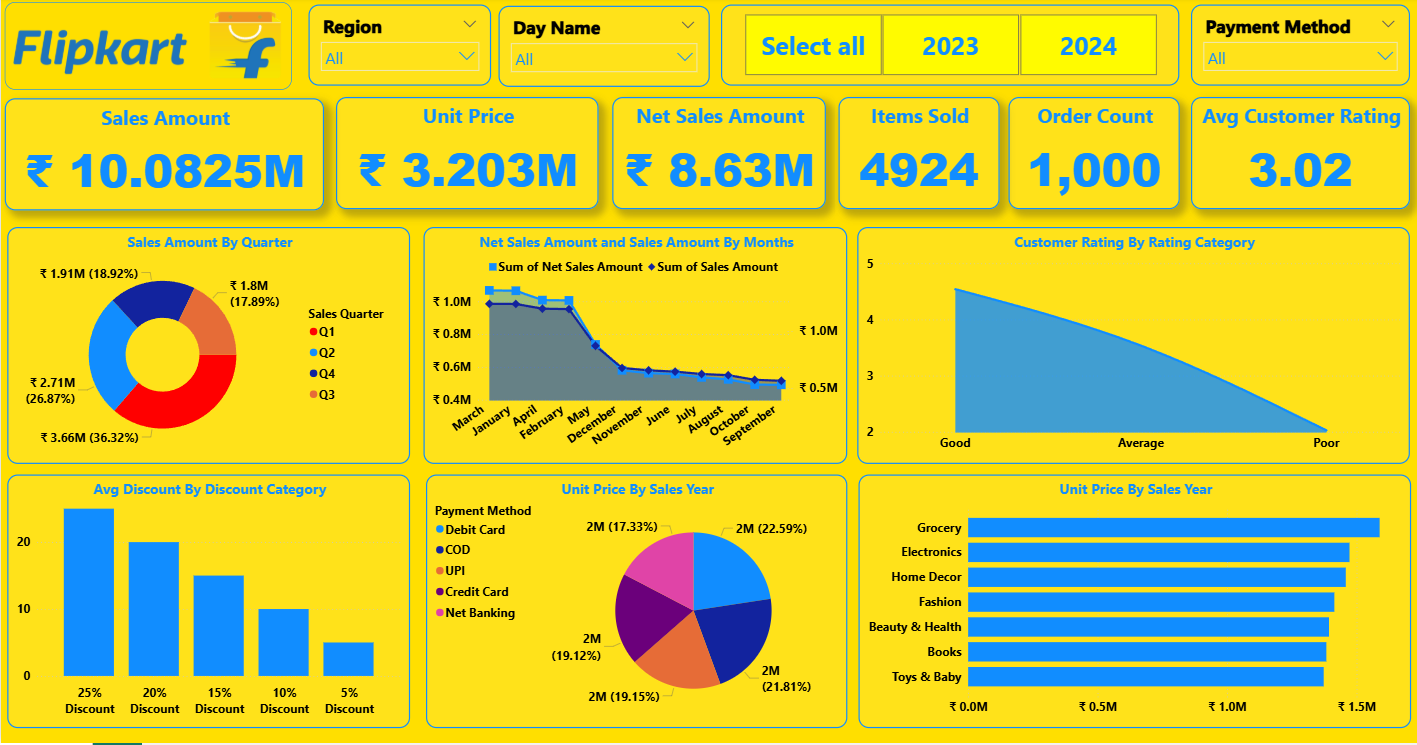

What the dashboard file says about the page in this screenshot:
{"tool":"powerbi","page":{"name":"Page 1","canvas":[1900,1000],"ordinal":0},"visuals":[{"type":"image","box":[5.2,6.9,384.9,117.4],"z":0},{"type":"card","title":"Unit Price","fields":{"Values":["Sum(Sheet1.Unit Price)"]},"box":[448.8,134.6,352.1,150.2],"z":1000},{"type":"card","title":"Sales Amount","fields":{"Values":["Sum(Sheet1.Sales Amount)"]},"box":[4.5,136.4,428.1,150.2],"z":2000},{"type":"card","title":"Net Sales Amount","fields":{"Values":["Sum(Sheet1.Net Sales Amount)"]},"box":[819.9,134.6,286.5,150.2],"z":3000},{"type":"card","title":"Items Sold","fields":{"Values":["Sum(Sheet1.Quantity Sold)"]},"box":[1121.9,134.6,215.8,150.2],"z":4000},{"type":"card","title":"Order Count","fields":{"Values":["Count(Sheet1.Order ID)"]},"box":[1349.7,134.6,229.6,150.2],"z":5000},{"type":"card","title":"Avg Customer Rating","fields":{"Values":["Avg(Sheet1.Customer Rating)"]},"box":[1594.8,134.6,293.4,150.2],"z":6000},{"type":"donutChart","title":"Sales Amount By Quarter","fields":{"Y":["Sum(Sheet1.Sales Amount)"],"Category":["Sheet1.Sales Quarter"]},"box":[8.6,309,540.2,317.6],"z":7000},{"type":"columnChart","title":"Avg Discount By Discount Category","fields":{"Category":["Sheet1.Discount Category"],"Y":["Avg(Sheet1.Discount (%))"]},"box":[8.6,640.4,540.2,340],"z":8000},{"type":"areaChart","title":"Net Sales Amount and Sales Amount By Months","fields":{"Category":["Sheet1.Sales Month"],"Y":["Sum(Sheet1.Net Sales Amount)"],"Y2":["Sum(Sheet1.Sales Amount)"]},"box":[566.1,309,567.9,317.6],"z":9000},{"type":"barChart","title":"Unit Price By Sales Year","fields":{"Category":["Sheet1.Product Category"],"Y":["Sum(Sheet1.Sales Amount)"]},"box":[1149.5,640.4,740.5,340],"z":10000},{"type":"pieChart","title":"Unit Price By Sales Year","fields":{"Y":["Sum(Sheet1.Sales Amount)"],"Category":["Sheet1.Payment Method"]},"box":[569.6,640.4,564.4,340],"z":11000},{"type":"stackedAreaChart","title":"Customer Rating By Rating Category","fields":{"Category":["Sheet1.Rating Category"],"Y":["Avg(Sheet1.Customer Rating)"]},"box":[1147.8,309,740.5,317.6],"z":12000},{"type":"slicer","fields":{"Values":["Sheet1.Region"]},"box":[412.5,10.4,245.1,108.7],"z":13000},{"type":"slicer","fields":{"Values":["Sheet1.Day Name"]},"box":[666.2,12.1,283.1,108.7],"z":13001},{"type":"slicer","fields":{"Values":["Sheet1.Sales Year"]},"box":[964.8,10.4,614.5,108.7],"z":13002},{"type":"slicer","fields":{"Values":["Sheet1.Payment Method"]},"box":[1594.8,10.4,293.4,108.7],"z":13003}]}

Visuals, with their boxes in screenshot pixels (x1, y1, x2, y2), scaled from the page's 1900x1000 canvas onto the 1417x745 screenshot:
image: <region>4, 5, 291, 93</region>
"Unit Price" card: <region>335, 100, 597, 212</region>
"Sales Amount" card: <region>3, 102, 323, 214</region>
"Net Sales Amount" card: <region>611, 100, 825, 212</region>
"Items Sold" card: <region>837, 100, 998, 212</region>
"Order Count" card: <region>1007, 100, 1178, 212</region>
"Avg Customer Rating" card: <region>1189, 100, 1408, 212</region>
"Sales Amount By Quarter" donutChart: <region>6, 230, 409, 467</region>
"Avg Discount By Discount Category" columnChart: <region>6, 477, 409, 730</region>
"Net Sales Amount and Sales Amount By Months" areaChart: <region>422, 230, 846, 467</region>
"Unit Price By Sales Year" barChart: <region>857, 477, 1410, 730</region>
"Unit Price By Sales Year" pieChart: <region>425, 477, 846, 730</region>
"Customer Rating By Rating Category" stackedAreaChart: <region>856, 230, 1408, 467</region>
slicer - Sheet1.Region: <region>308, 8, 490, 89</region>
slicer - Sheet1.Day Name: <region>497, 9, 708, 90</region>
slicer - Sheet1.Sales Year: <region>720, 8, 1178, 89</region>
slicer - Sheet1.Payment Method: <region>1189, 8, 1408, 89</region>
